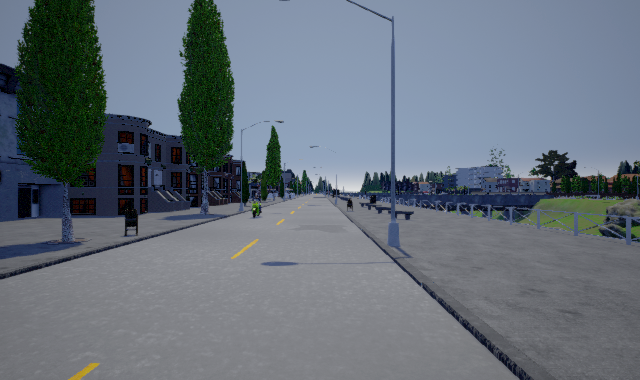motobike: (250, 195, 263, 217)
